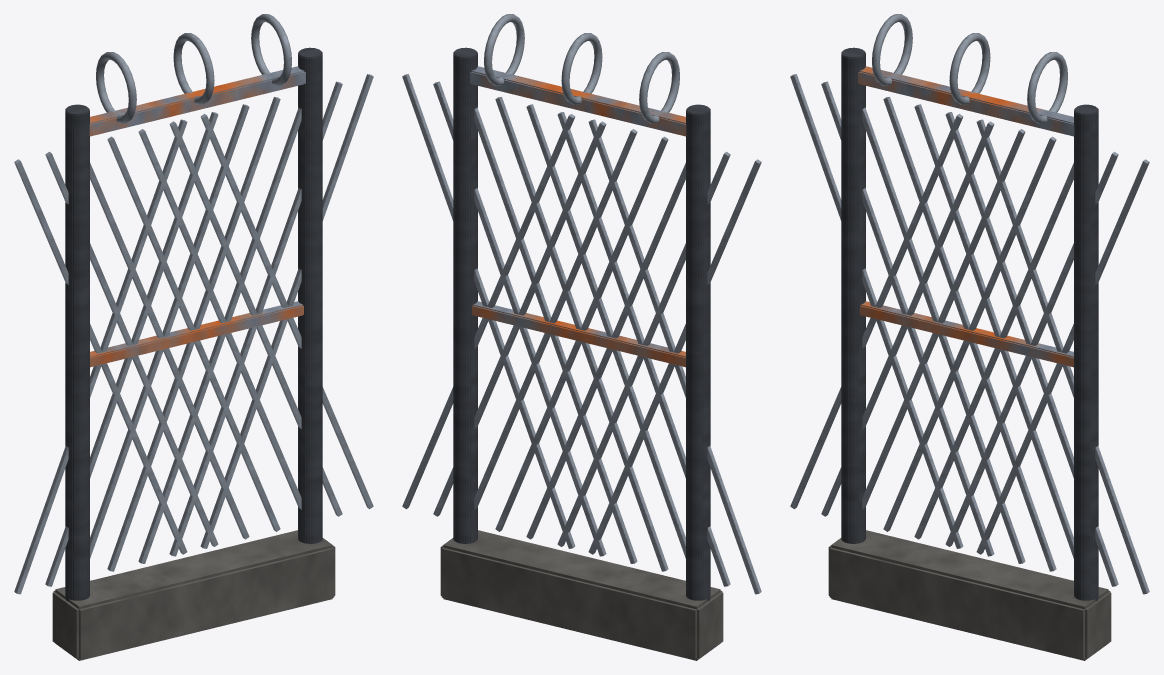
File: fence_wire.glb
3 views of the same model, side by side, from view 1: azimuth 30°, elevation 25°; view 2: azimuth 150°, elevation 25°; view 3: azimuth 330°, elevation 25° (orthographic).
Visible parts, largest first — view 1: fence_wire; view 2: fence_wire; view 3: fence_wire.
Part boxes in pixels (<box>): fence_wire: <box>14,14,373,660</box>; fence_wire: <box>402,14,761,660</box>; fence_wire: <box>790,14,1149,660</box>.
Size of the model in its own units: 1.38 by 2.16 by 0.248.
4 materials, 4 textured.
